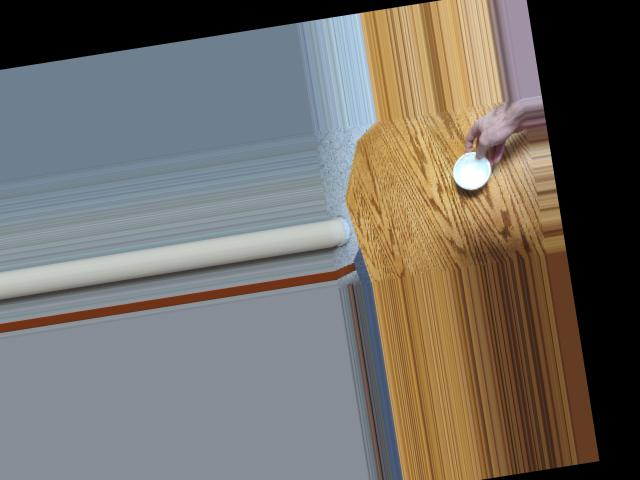cotage: (450, 147, 496, 192)
